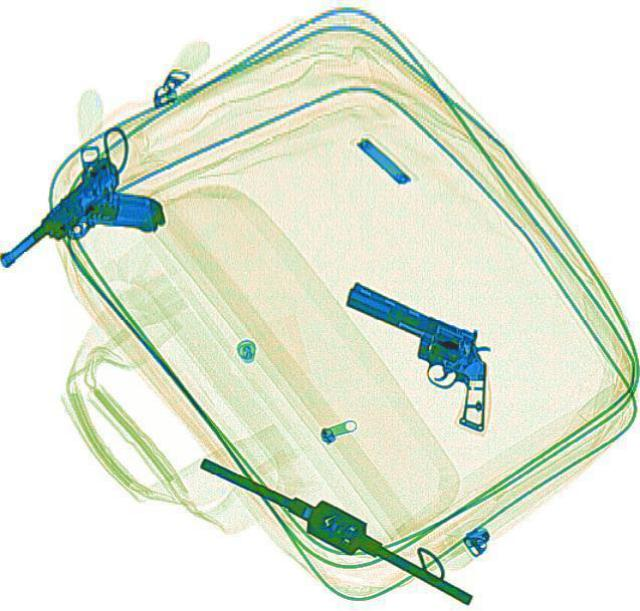Gun: (306, 275, 528, 432), (0, 155, 173, 311)
